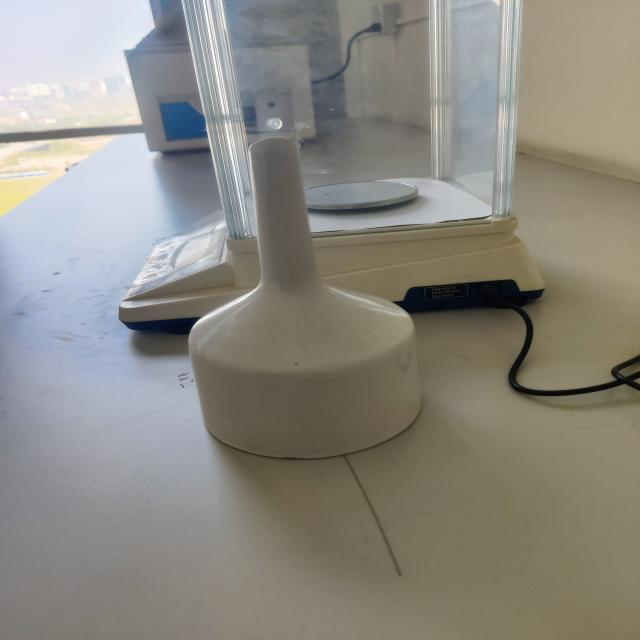Buchner_Funnel: (182, 106, 444, 485)
